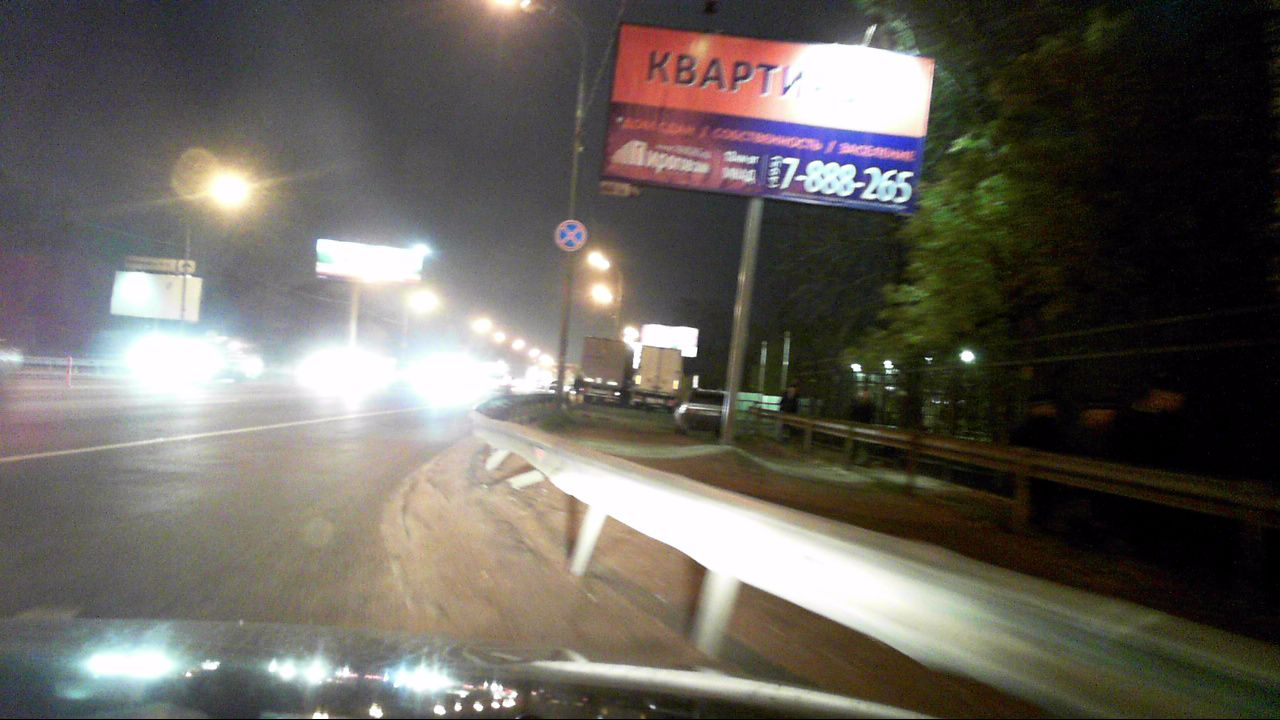No Parking: (553, 219, 585, 252)
